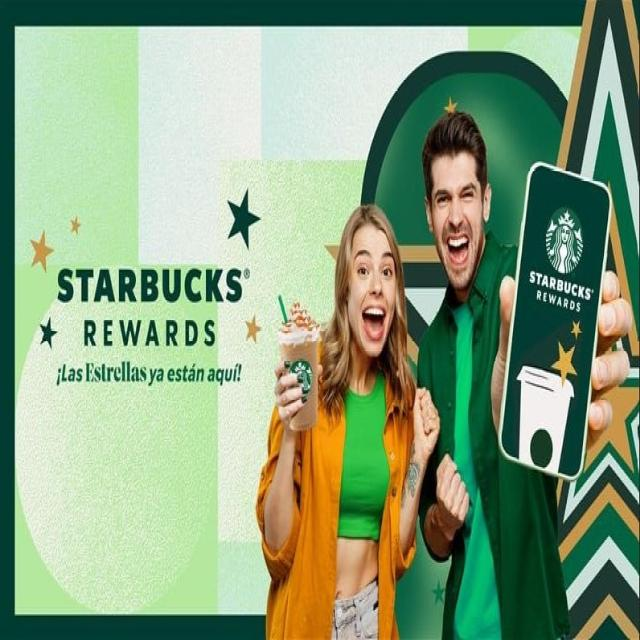starbucks: (54, 262, 246, 318), (541, 199, 587, 281)
